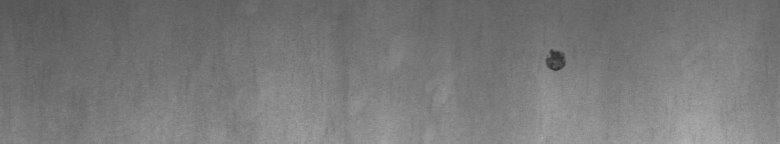fi: (541, 44, 575, 80)
